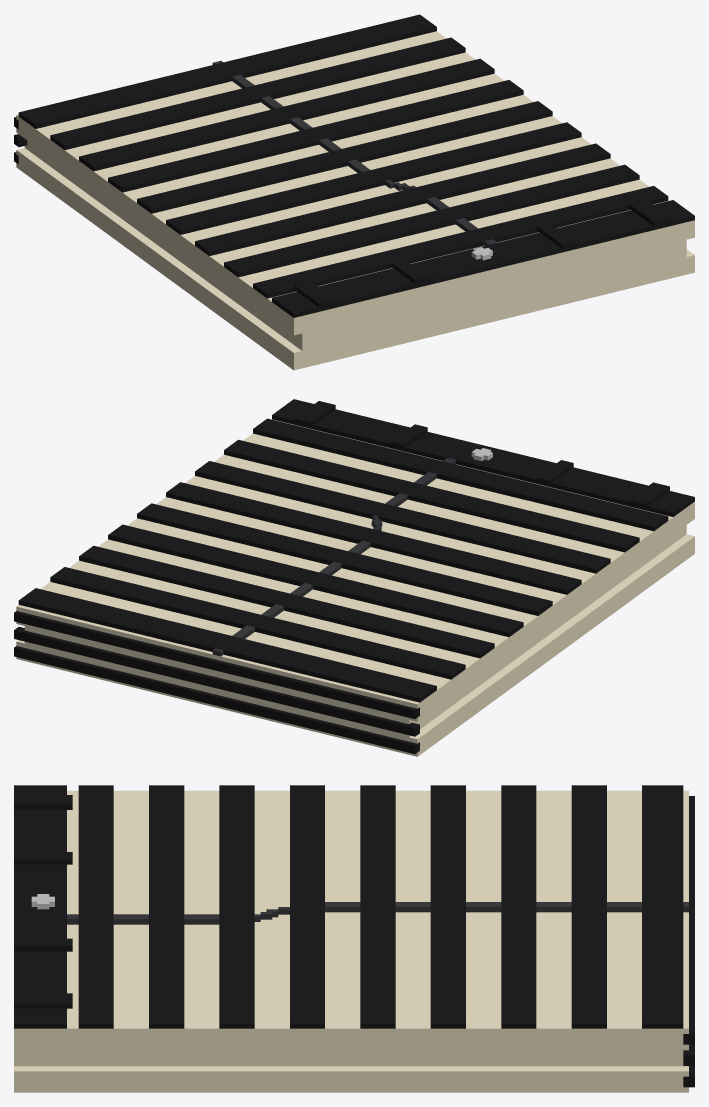
Rendered from striped_pants.glb.
3 renders of one model, top to bottom at view 1: azimuth 30°, elevation 25°; view 2: azimuth 150°, elevation 25°; view 3: azimuth 270°, elevation 25°, orthographic. The views are drawn at different scales.
Visible parts, largest first — view 1: striped_pants:compound; view 2: striped_pants:compound; view 3: striped_pants:compound.
Part boxes in pixels (bbox=[...]): striped_pants:compound: bbox=[14, 14, 694, 370]; striped_pants:compound: bbox=[14, 399, 694, 756]; striped_pants:compound: bbox=[14, 785, 694, 1092].
Bounding box in the file's own units: 0.384 × 0.056 × 0.464.
